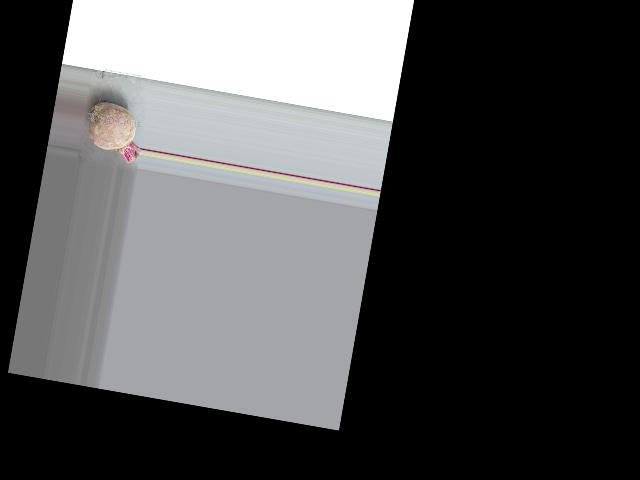beet: (83, 100, 147, 164)
